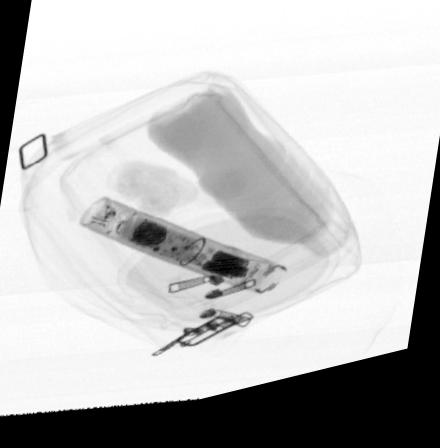Baton: (78, 200, 288, 309)
